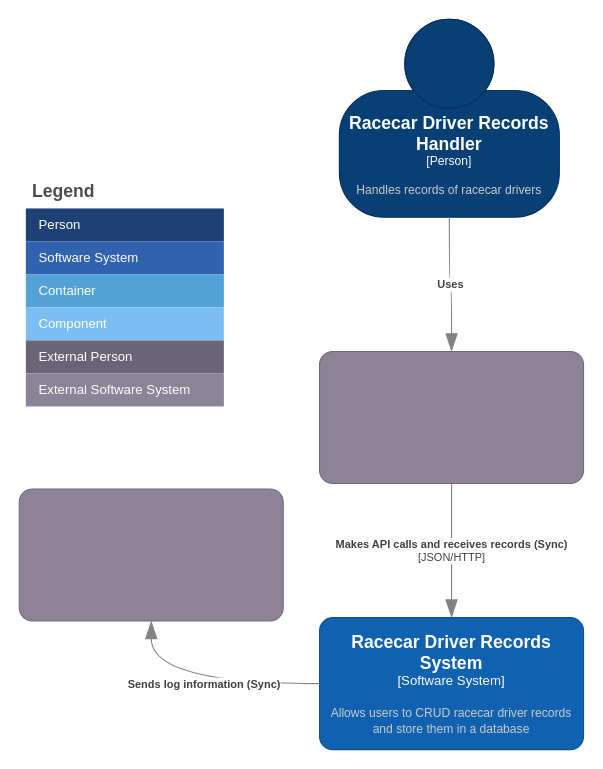
The diagram is 603 pixels wide and 769 high, and some of its shapes have lost their labels. Each missing label, with the centre of its shape:
Log System (Console) [Software System] Shows logs of API requests: (150,554)
Postman [Software System] API platform: (451,416)
